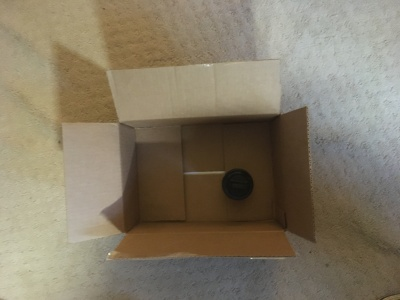innerbox: (120, 123, 282, 229)
outerbox: (64, 59, 316, 260)
product: (219, 167, 256, 203)
